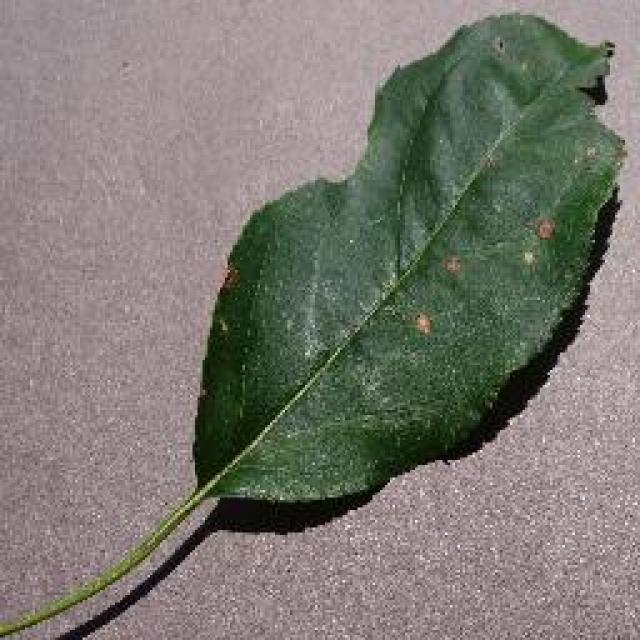Black_rot: (0, 8, 625, 638)
